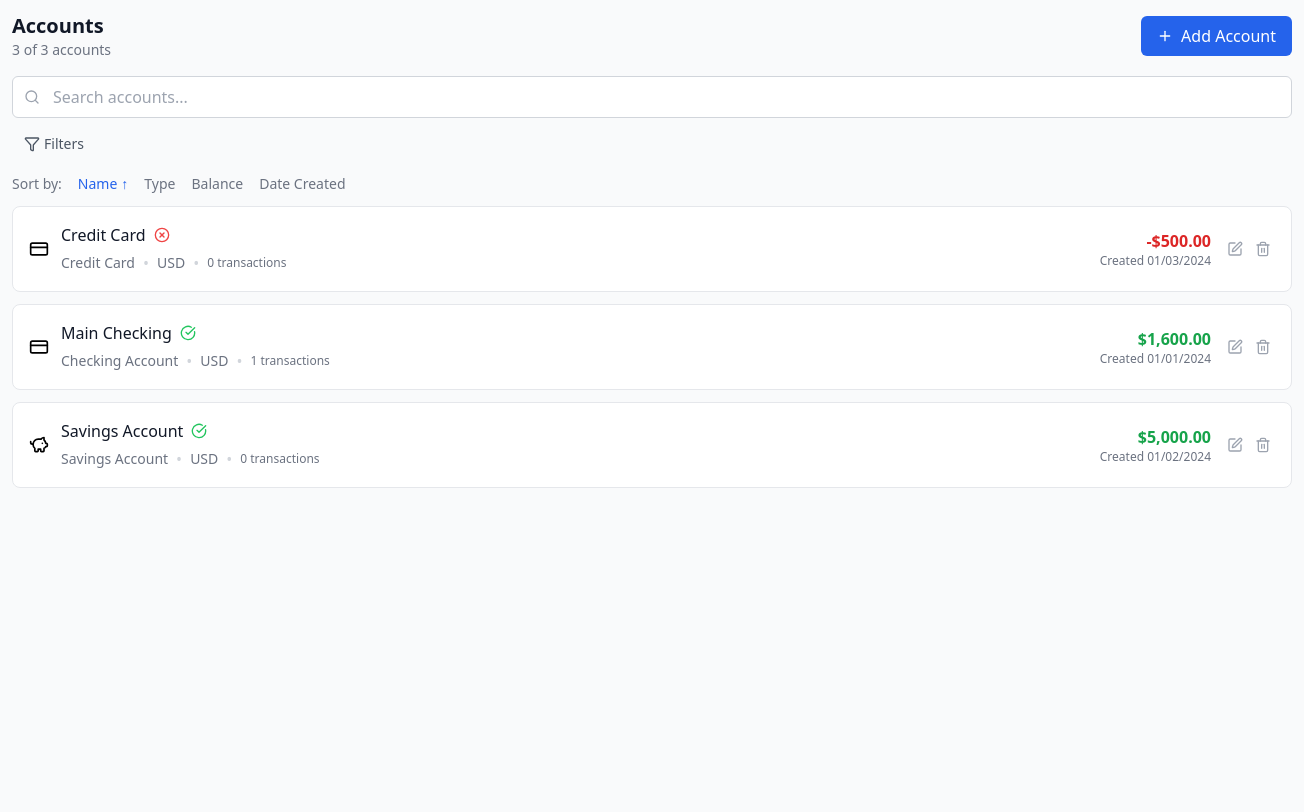
Test: AccountList › Search and Filtering › should show and hide filter controls
The width and height of the screenshot is (1304, 812).
Expected: the text "Account Type" is not shown
// Click to show filters
Click the button "Filters": (54, 144) [12, 130, 96, 158]
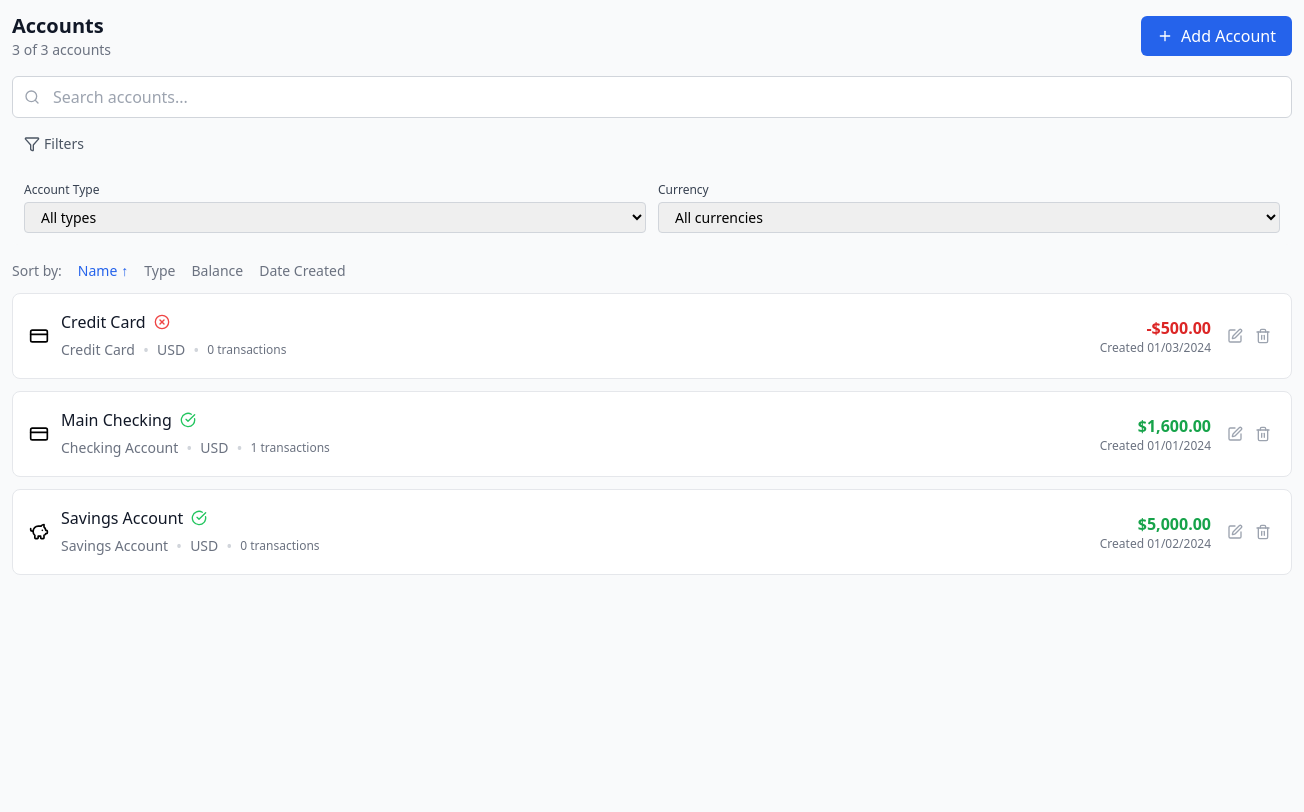
Result: the text "Account Type" is shown at [24, 181, 99, 198]
Result: the text "Currency" is shown at [658, 181, 709, 198]
